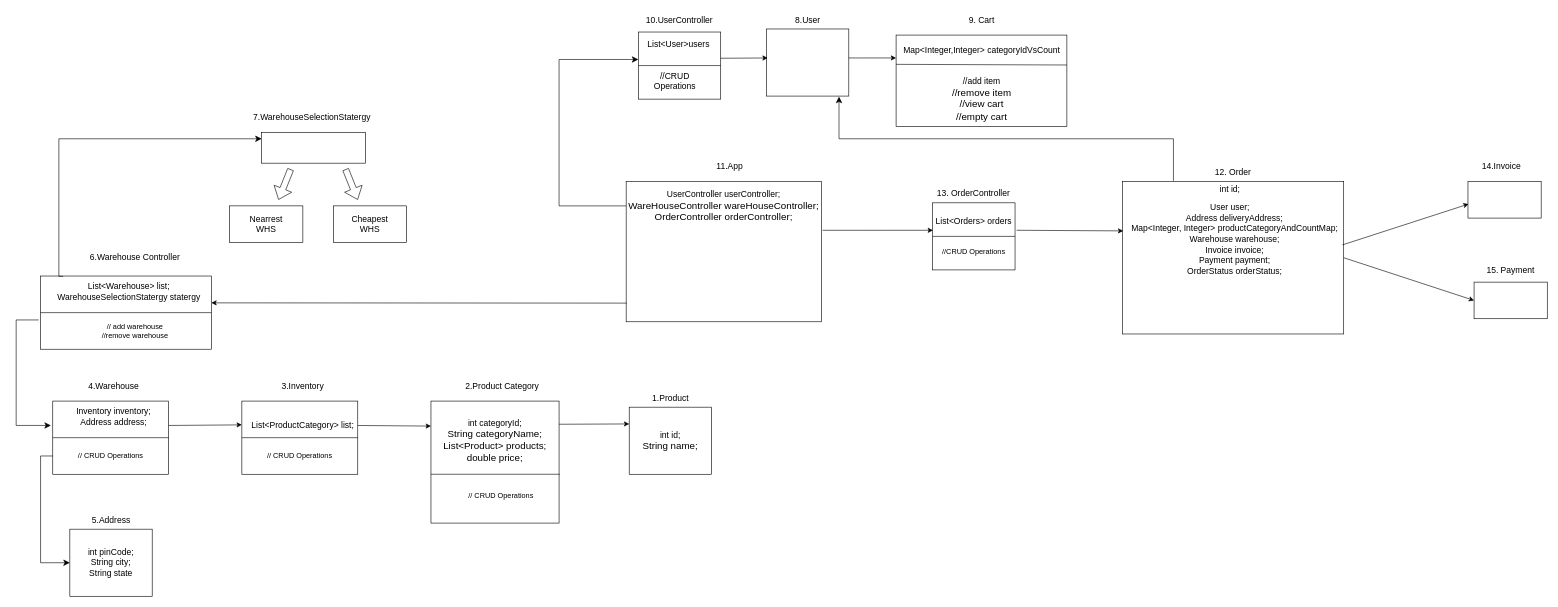
Some shapes in this 1558 by 607 pixel diagram are drawn without their labels. The shapes that lost their labels are listed below. From the top down, each one's centre as x and y in pixels, then its label:
the point at 807,62: int id; String name; Cart cart; List<Order>Orders
the point at 313,147: WareHouse selectWH();
